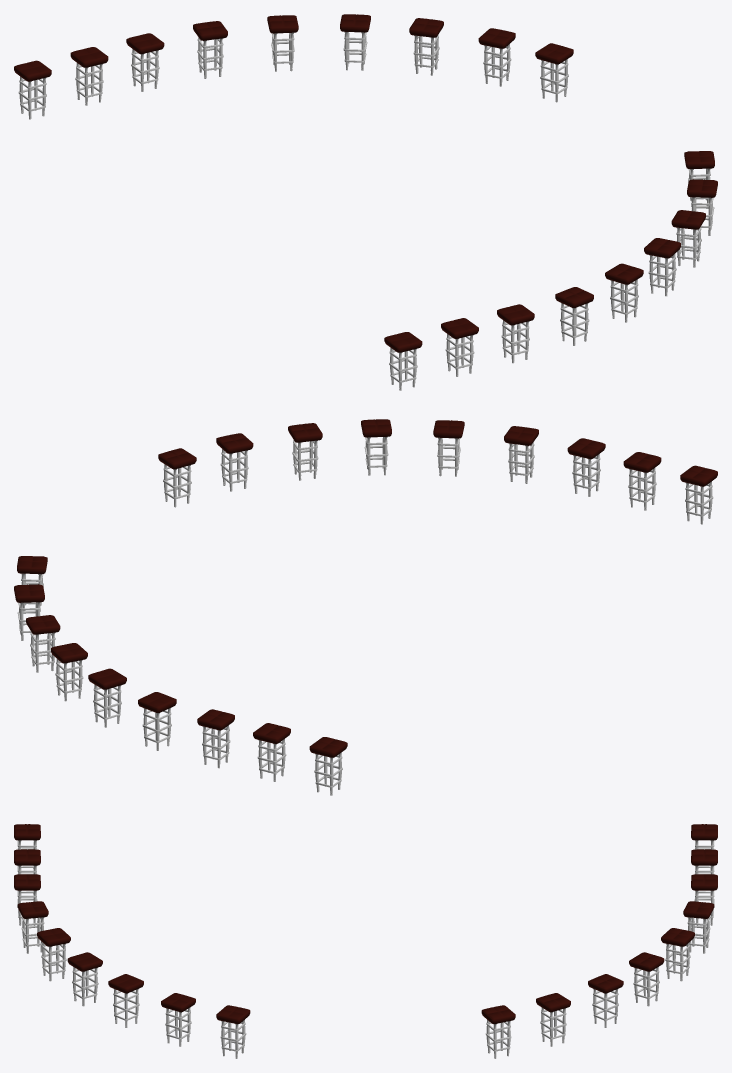
The model's file is subway4_small.fbx.
3 views of the same model, one above another, from view 1: azimuth 30°, elevation 25°; view 2: azimuth 150°, elevation 25°; view 3: azimuth 270°, elevation 25° (orthographic). The views are drawn at different scales.
Visible parts, largest first — view 1: barchair; view 2: barchair; view 3: barchair.
Boxes of the visible parts, x1,y1,x2,y2 form: barchair: (14, 14, 717, 390); barchair: (14, 419, 717, 795); barchair: (14, 824, 717, 1058).
Bounding box in the file's own units: 685 × 70.39 × 1044.
